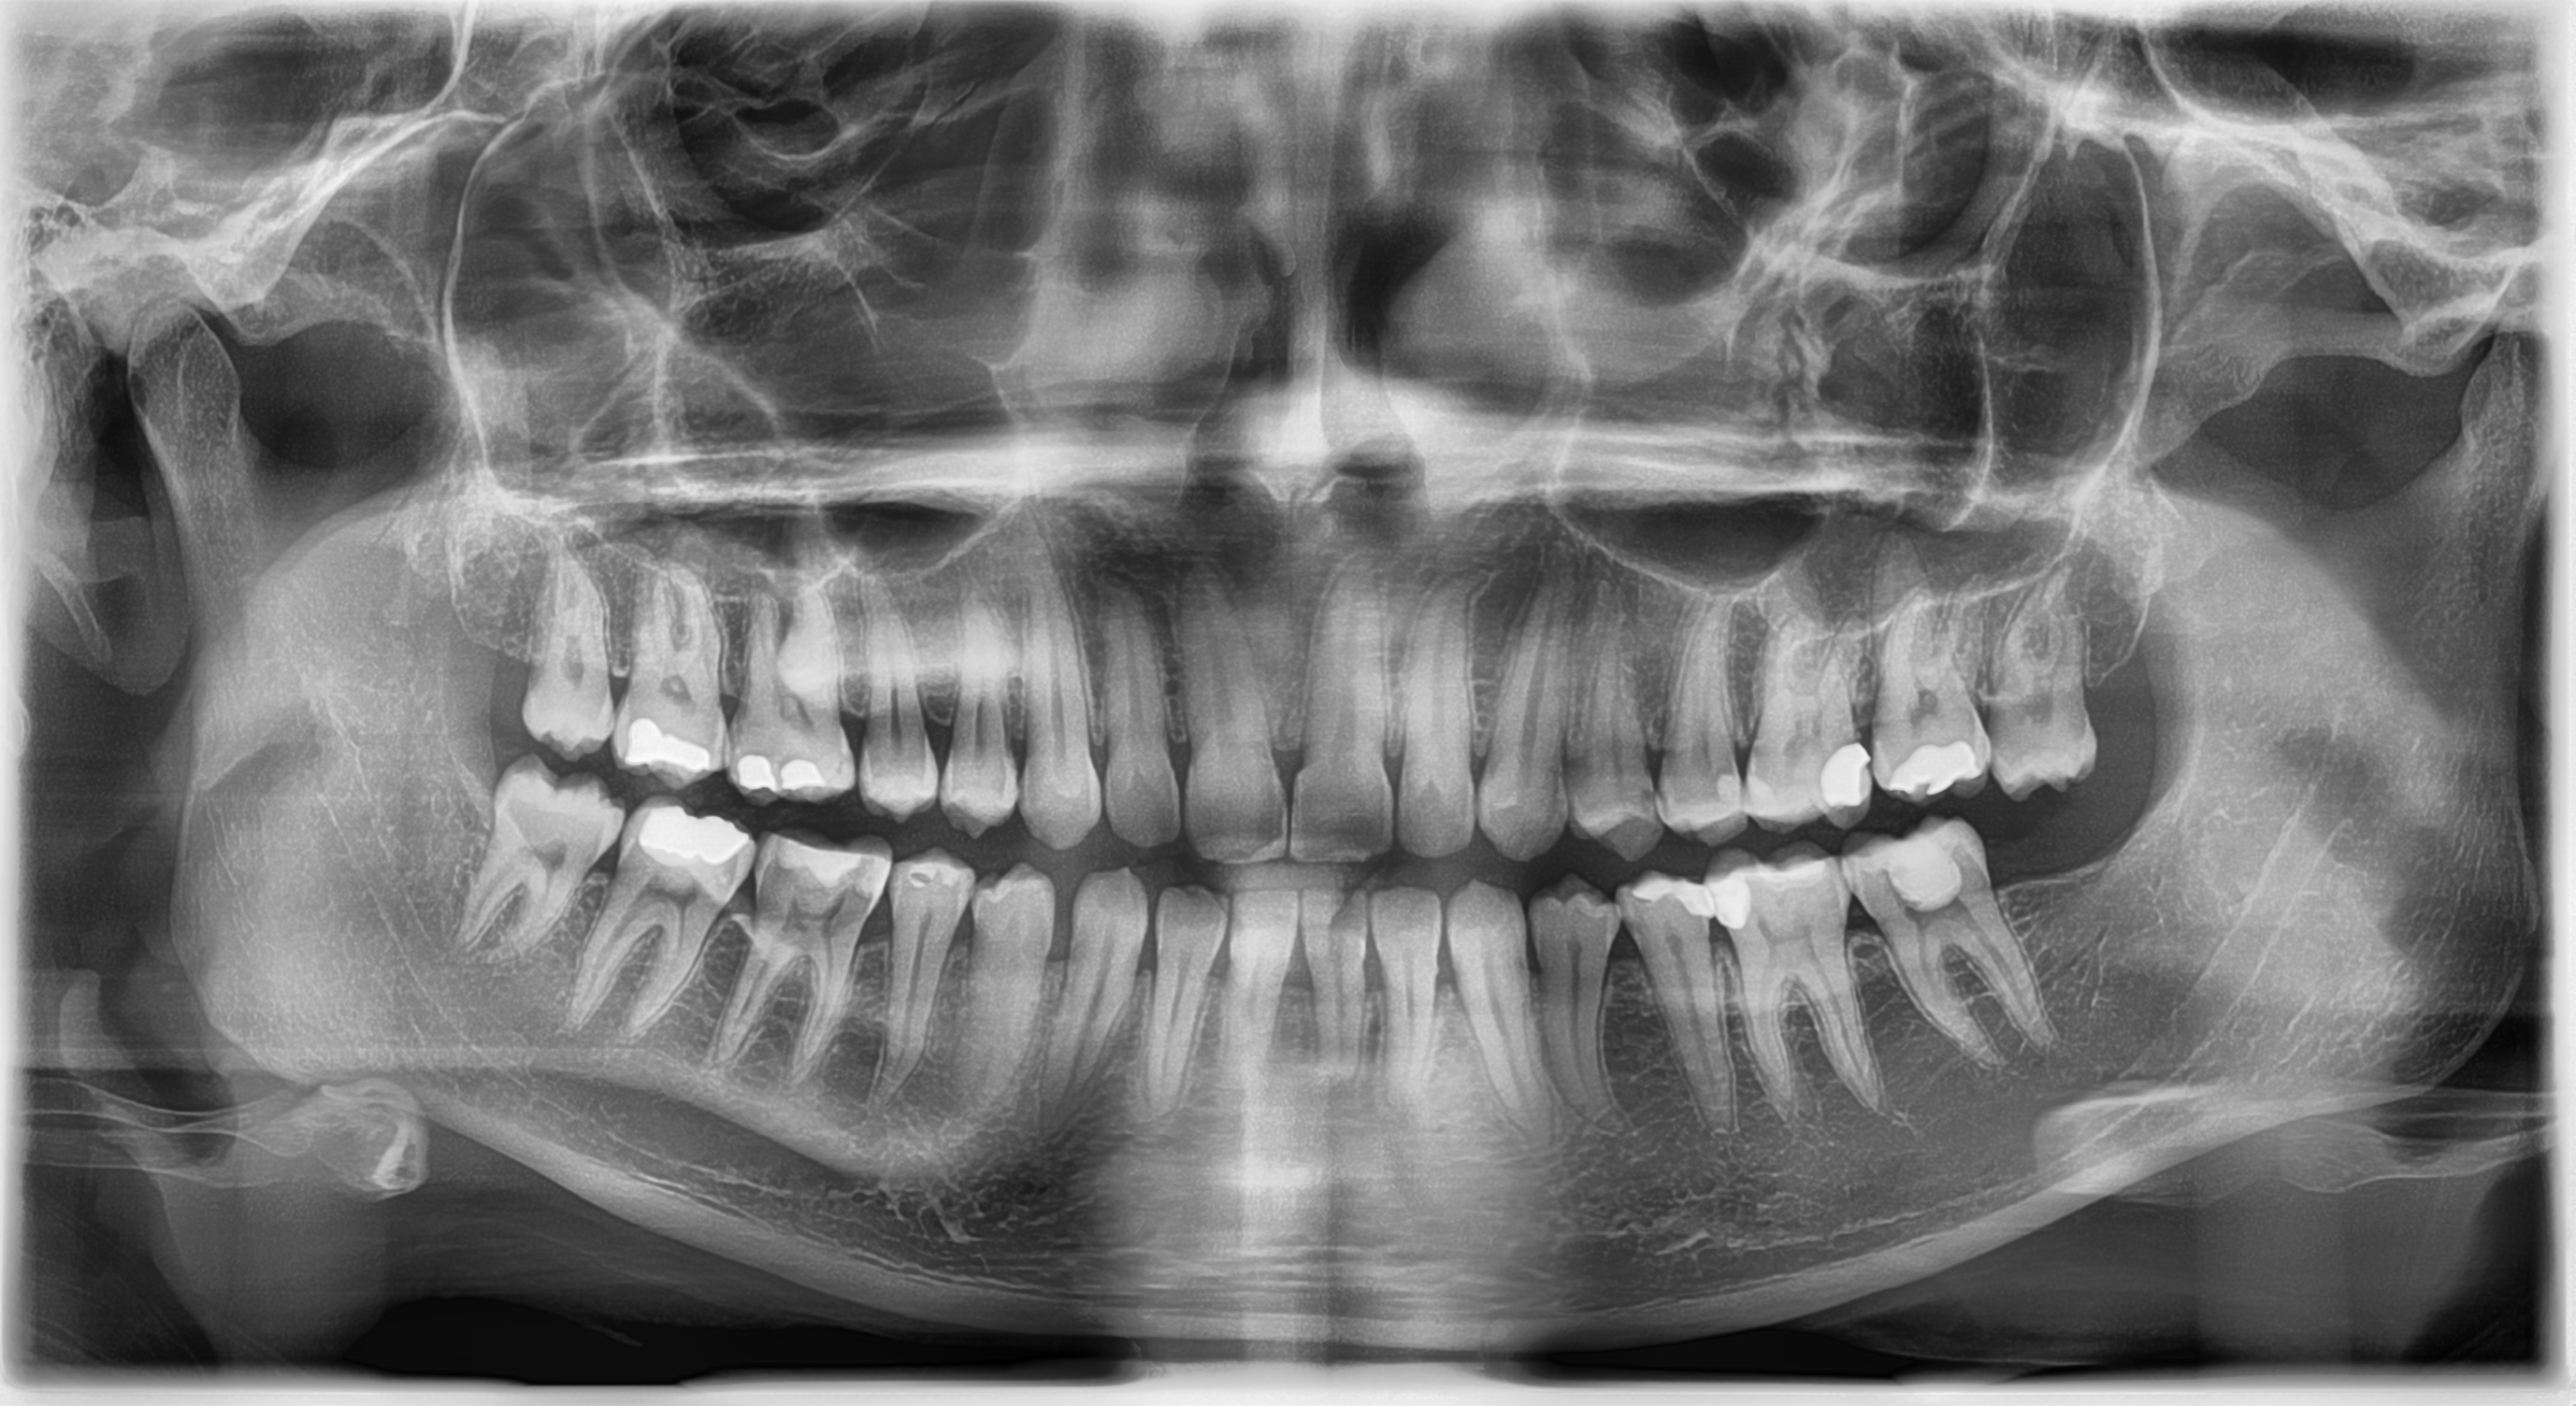caries: (1823, 805, 2027, 966)
cordal: (441, 745, 639, 994), (464, 532, 661, 781), (1953, 563, 2150, 812)
